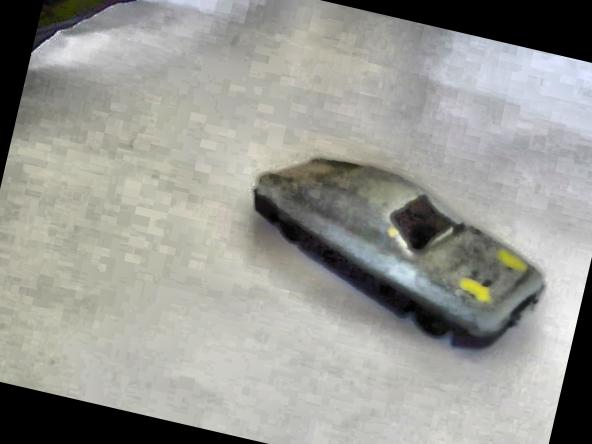normal_car: (224, 135, 564, 366)
